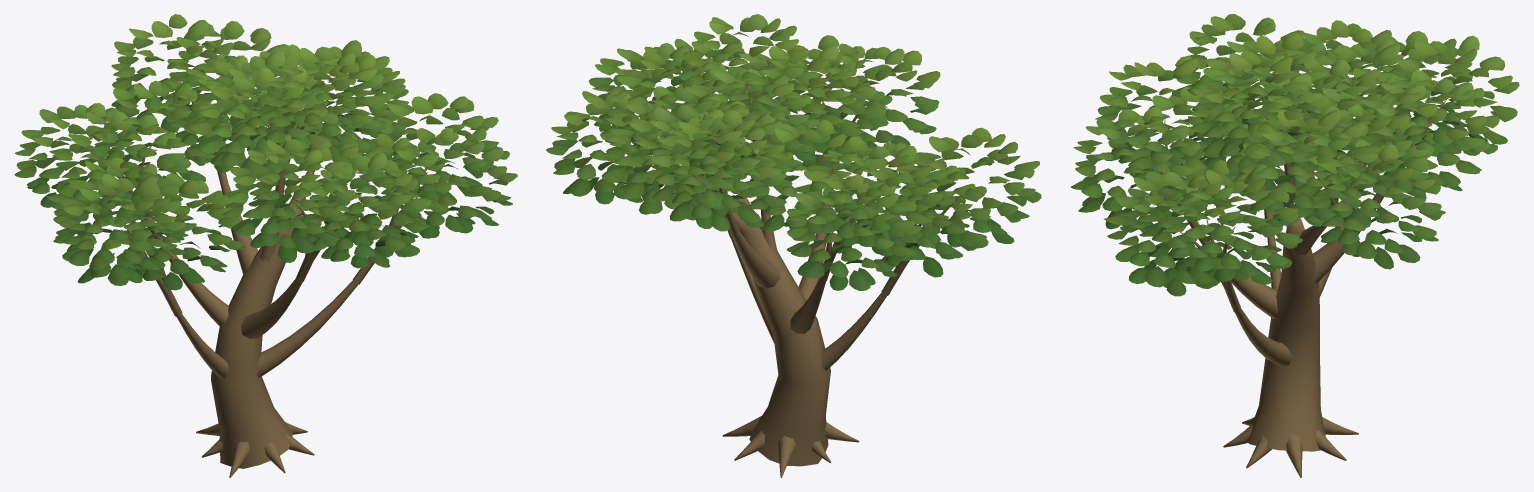
Rendered from oak.glb.
3 views of the same model, side by side, from view 1: azimuth 30°, elevation 25°; view 2: azimuth 150°, elevation 25°; view 3: azimuth 270°, elevation 25° (orthographic). The views are drawn at different scales.
Parts seen in each view (by area): view 1: leaf, bark; view 2: leaf, bark; view 3: leaf, bark.
Part boxes in pixels (x1=…): leaf: x1=14, y1=14, x2=517, y2=290; bark: x1=83, y1=73, x2=435, y2=477; leaf: x1=546, y1=14, x2=1041, y2=290; bark: x1=618, y1=83, x2=960, y2=477; leaf: x1=1071, y1=14, x2=1519, y2=296; bark: x1=1143, y1=82, x2=1446, y2=477.
Size of the model in its own units: 5.07 by 4.55 by 4.38.
